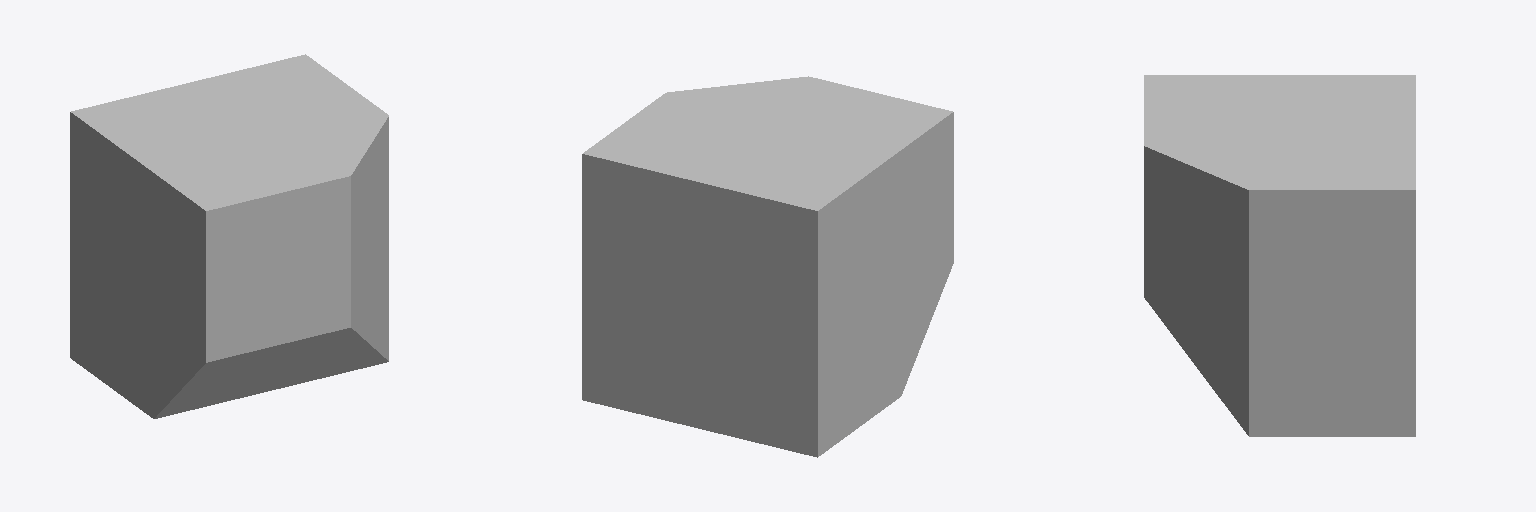
The model's file is thing.obj.
The picture shows the model from 3 angles: view 1: azimuth 30°, elevation 25°; view 2: azimuth 150°, elevation 25°; view 3: azimuth 270°, elevation 25°; orthographic projection.
Visible parts, largest first — view 1: Cube; view 2: Cube; view 3: Cube.
Boxes of the visible parts, <box> form: Cube: <box>70,54,388,418</box>; Cube: <box>582,76,953,457</box>; Cube: <box>1144,75,1415,436</box>.
Size of the model in its own units: 2 by 2 by 2.